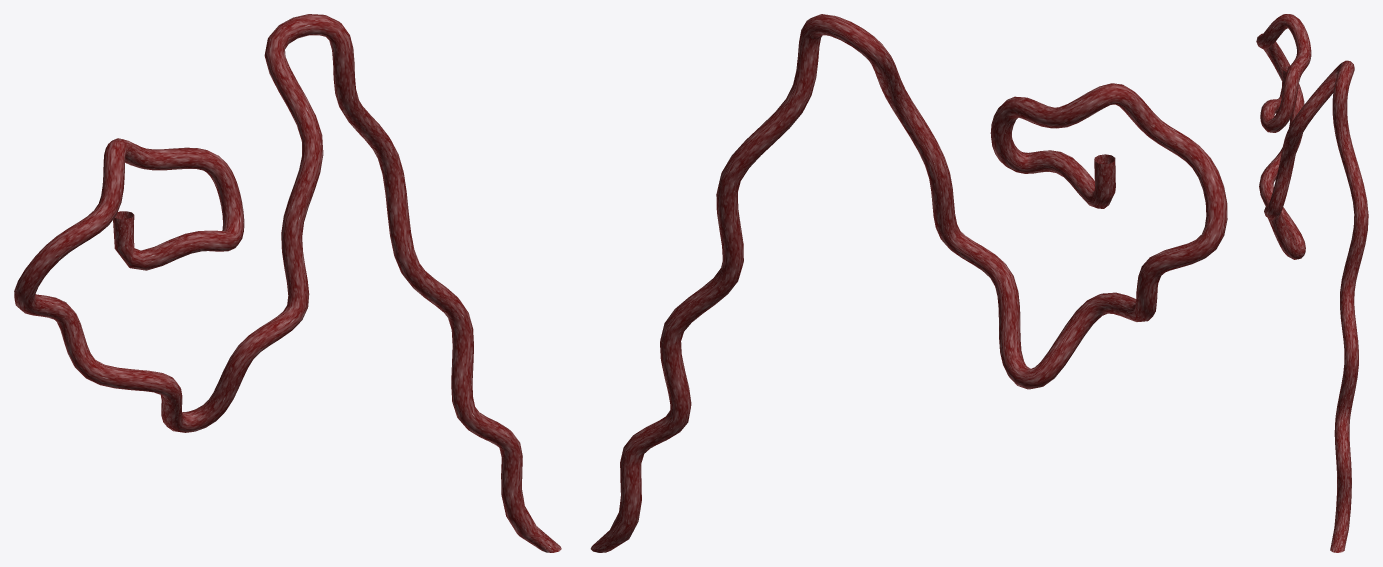
Rendered from Blood_Vessel.fbx.
3 views of the same model, side by side, from view 1: azimuth 30°, elevation 25°; view 2: azimuth 150°, elevation 25°; view 3: azimuth 270°, elevation 25° (orthographic). The views are drawn at different scales.
Parts seen in each view (by area): view 1: Blood_Vessel; view 2: Blood_Vessel; view 3: Blood_Vessel.
Boxes of the visible parts, left/top/right/bottom form: Blood_Vessel: left=14, top=14, right=561, bottom=552; Blood_Vessel: left=590, top=14, right=1227, bottom=552; Blood_Vessel: left=1256, top=14, right=1368, bottom=552.
Size of the model in its own units: 79.88 by 76.65 by 19.29.
